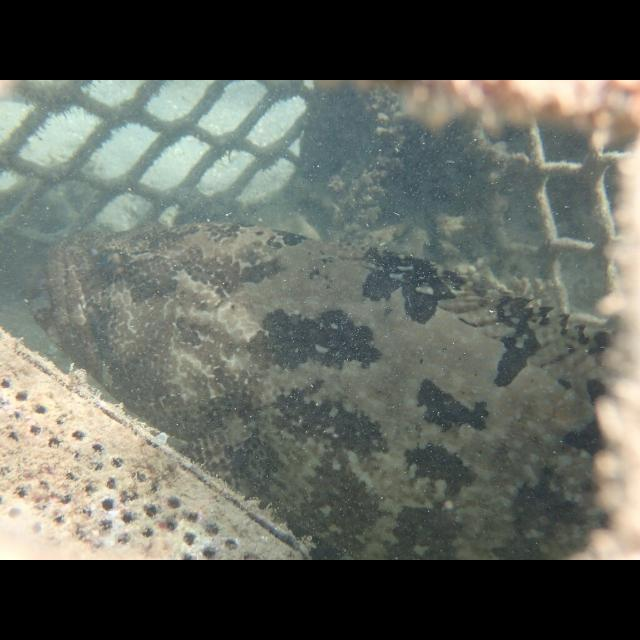Groupers: (34, 222, 612, 560)
